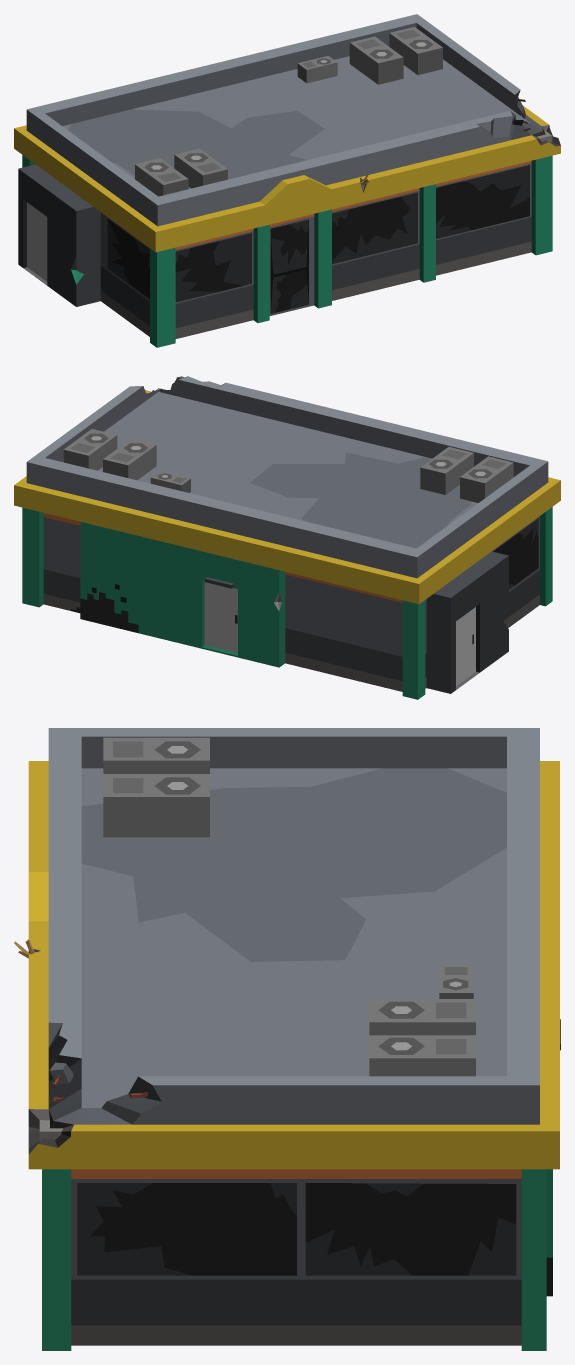
Rendered from SA_Bld_ShopOld_Damaged_02.glb.
3 views of the same model, one above another, from view 1: azimuth 30°, elevation 25°; view 2: azimuth 150°, elevation 25°; view 3: azimuth 270°, elevation 25° (orthographic). The views are drawn at different scales.
Parts seen in each view (by area): view 1: SA_Bld_ShopOld_Damaged_02; view 2: SA_Bld_ShopOld_Damaged_02; view 3: SA_Bld_ShopOld_Damaged_02.
Boxes of the visible parts, x1,y1,x2,y2 form: SA_Bld_ShopOld_Damaged_02: (14,14,560,347); SA_Bld_ShopOld_Damaged_02: (14,376,560,699); SA_Bld_ShopOld_Damaged_02: (14,728,560,1350).
Size of the model in its own units: 9.74 by 3.23 by 5.88.
1 material, 1 textured.
